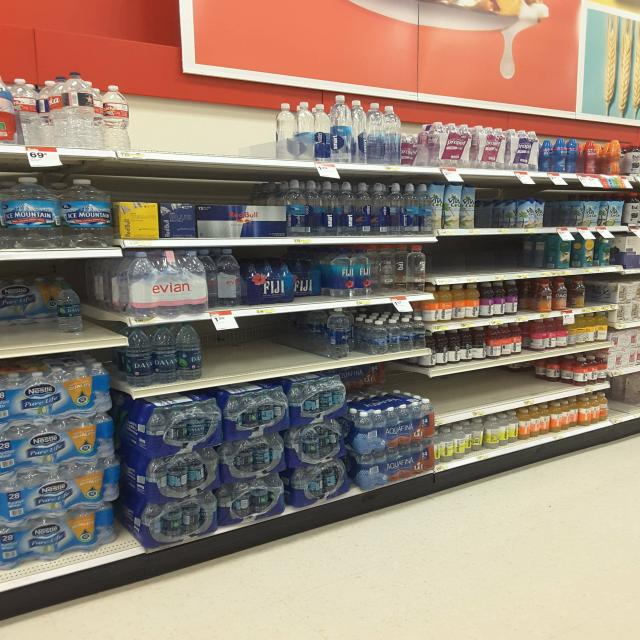empty: (135, 90, 288, 169), (205, 308, 329, 386), (433, 351, 571, 421), (433, 232, 550, 290), (607, 362, 639, 428), (473, 188, 520, 232), (542, 193, 587, 226)
